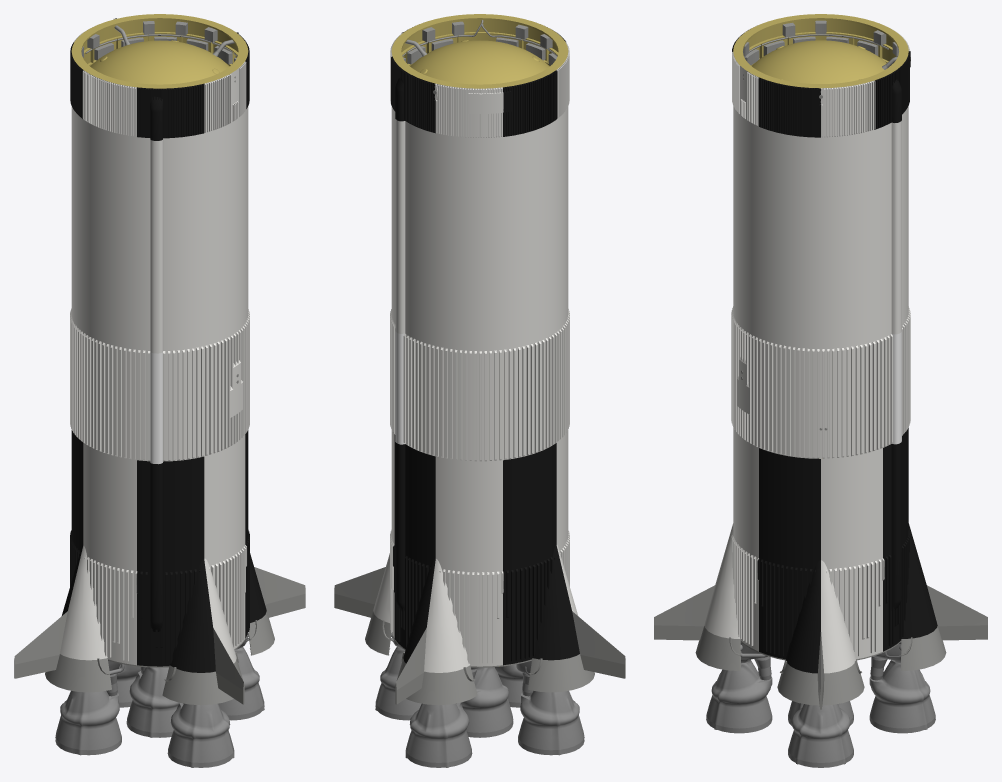
The model's file is Saturn.fbx.
The picture shows the model from 3 angles, left to right: view 1: azimuth 30°, elevation 25°; view 2: azimuth 150°, elevation 25°; view 3: azimuth 270°, elevation 25°; orthographic projection.
Visible parts, largest first — view 1: exterior.009; view 2: exterior.009; view 3: exterior.009.
Boxes of the visible parts, x1,y1,x2,y2 form: exterior.009: (14,14,305,767); exterior.009: (334,14,625,767); exterior.009: (654,14,987,767).
Size of the model in its own units: 1911 by 4224 by 1911.
